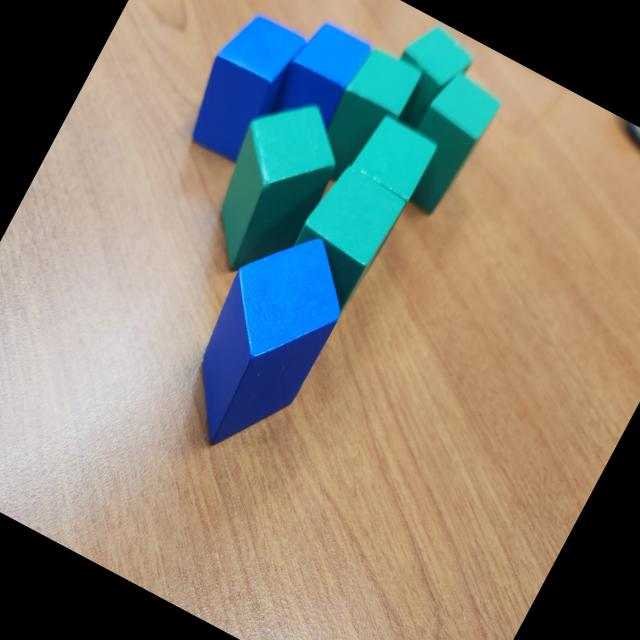blue: (158, 211, 368, 473), (174, 3, 312, 170), (262, 14, 374, 145)
green: (185, 80, 360, 293), (311, 105, 444, 272), (271, 162, 407, 321), (303, 39, 426, 195), (384, 66, 507, 222), (372, 14, 482, 140)
